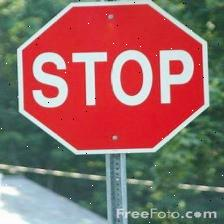Stop: (17, 2, 209, 152)
